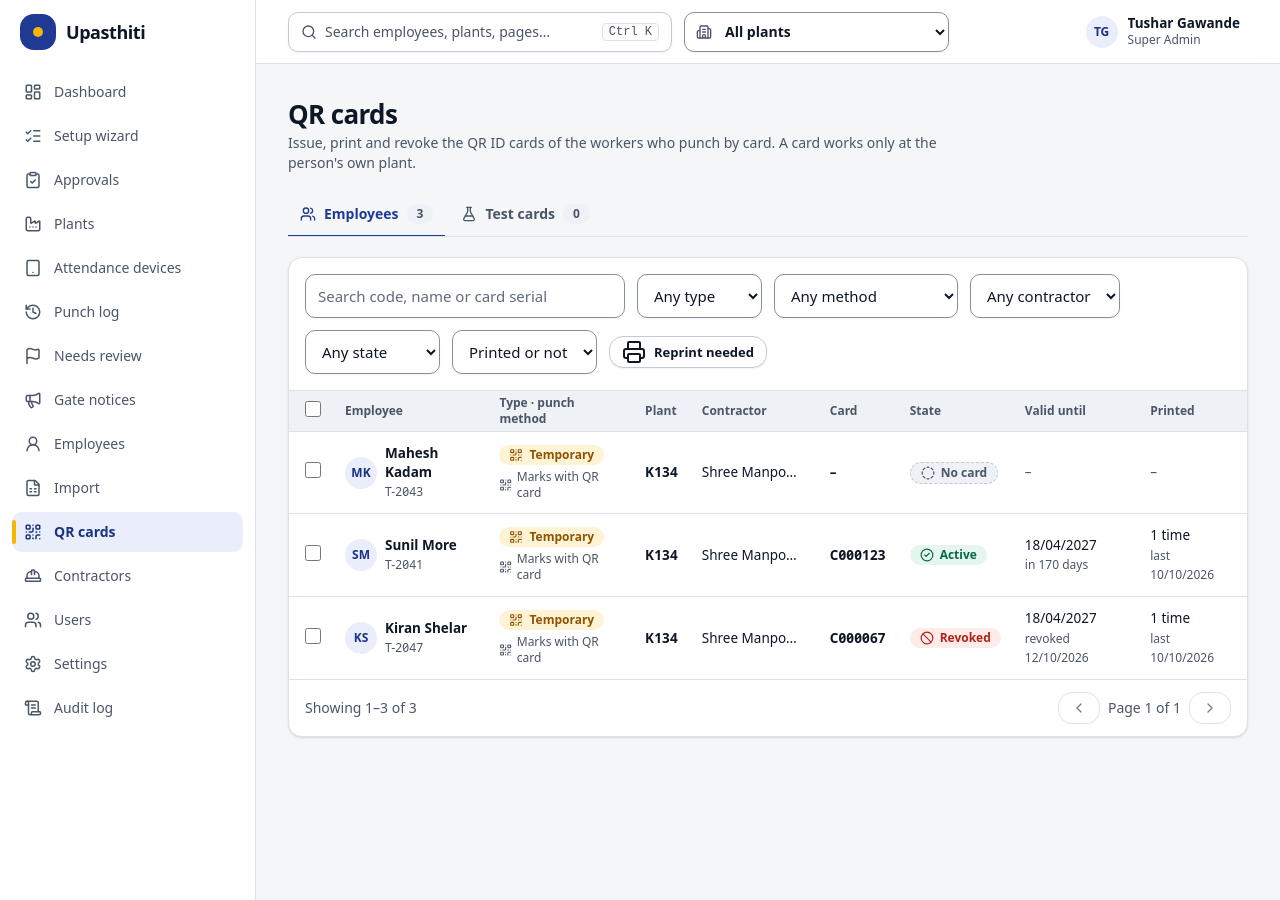
Test: selecting people › shows the bulk bar with what each button will do with this selection
Click the checkbox named "Select Mahesh Kadam" at (313, 470), box [305,462,321,478]
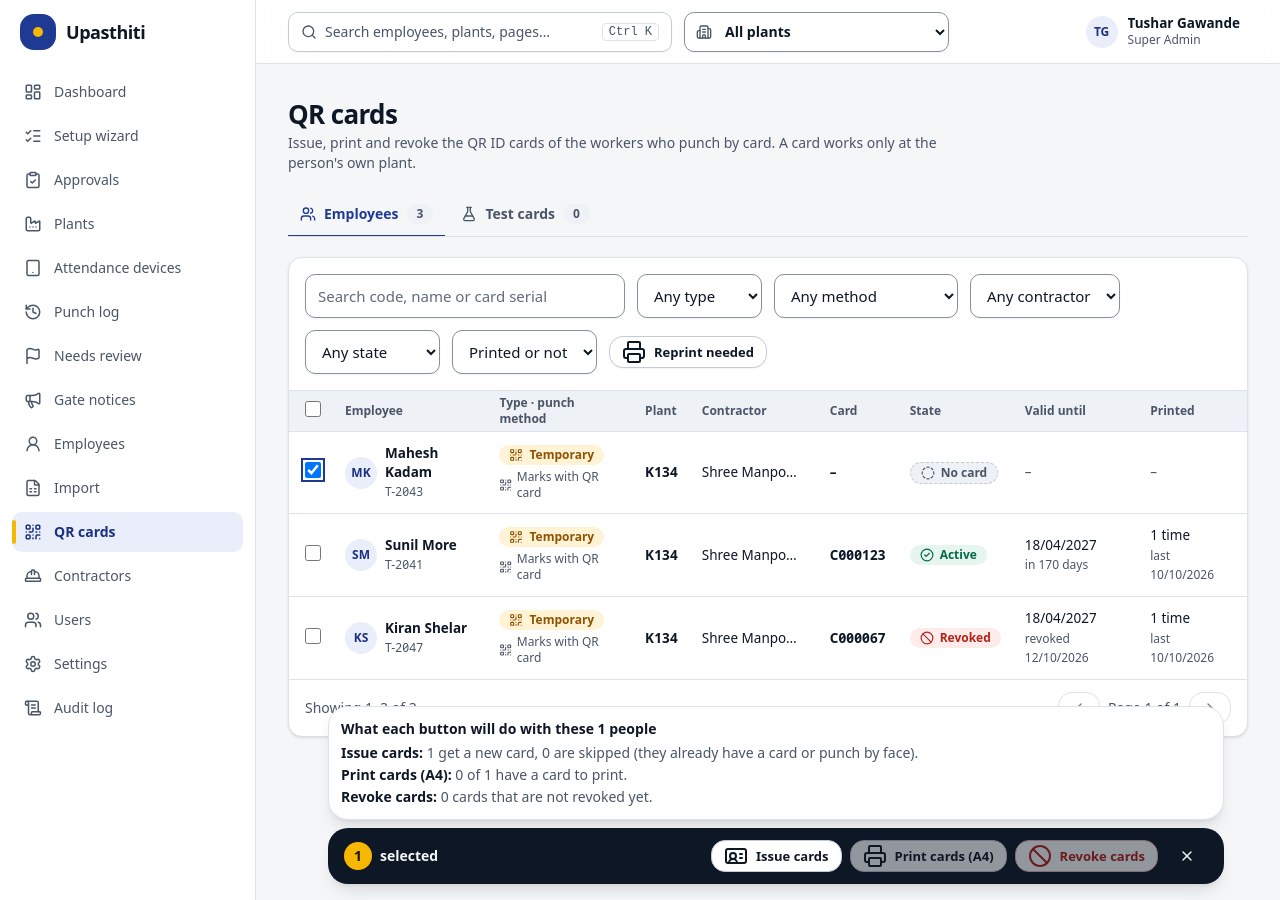
Click the checkbox named "Select Sunil More" at (313, 553), box [305,545,321,561]
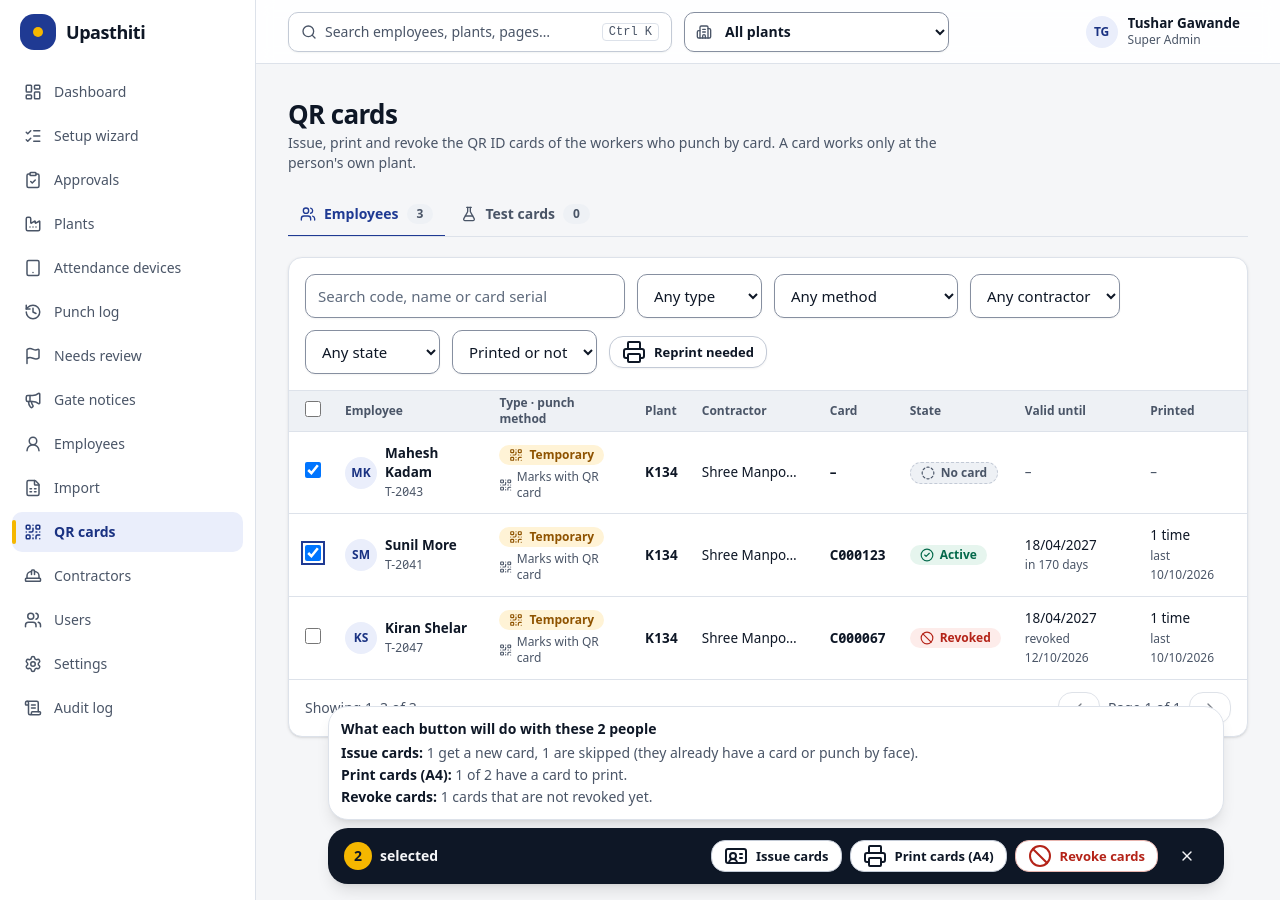
Click the checkbox named "Select Kiran Shelar" at (313, 636), box [305,628,321,644]
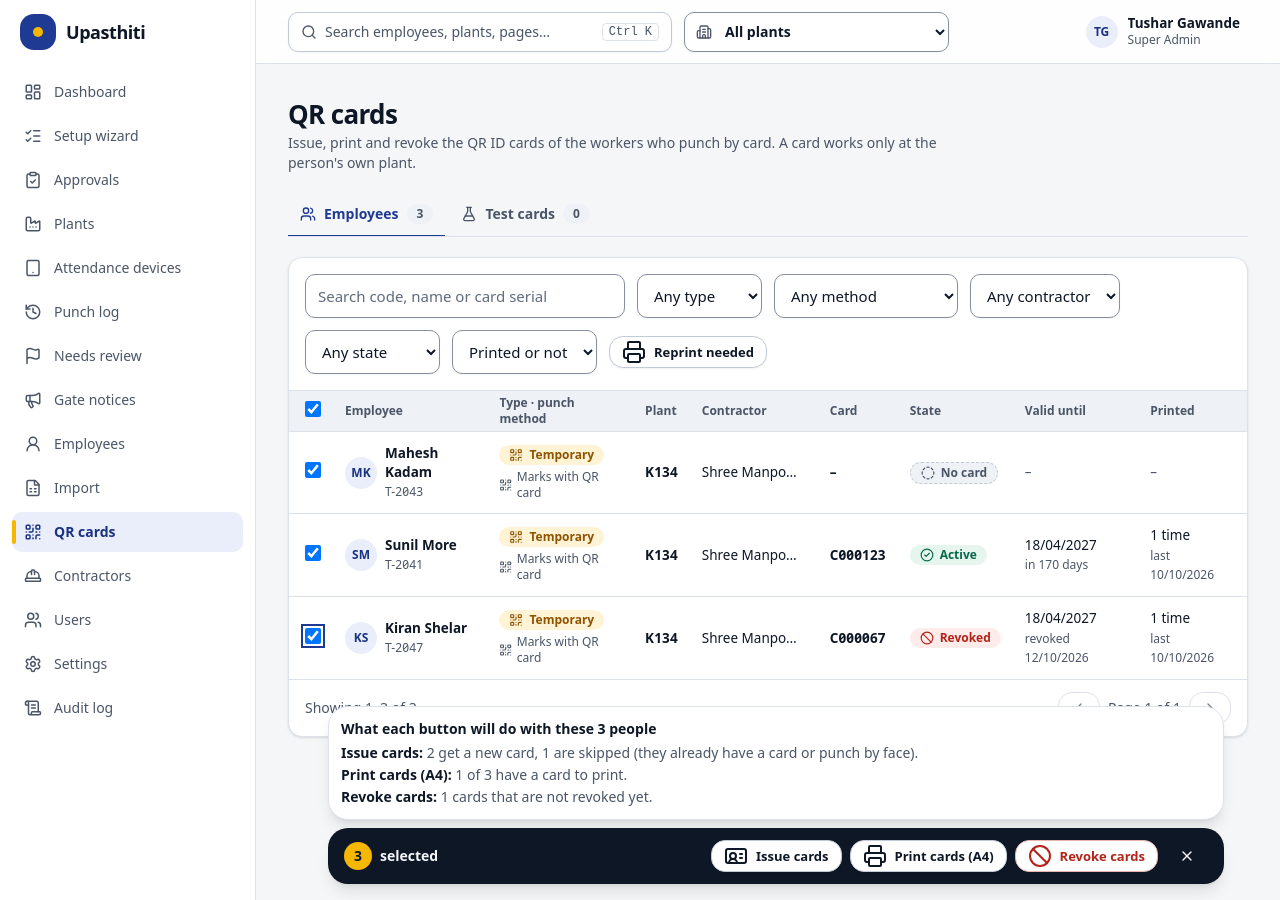
Expected: the text "What each button will do with these 3 people" is shown, [341,719,656,738]
Expected: the list item "2 get a new card, 1 are skipped" is shown, [427,743,918,762]
Expected: the list item "1 of 3 have a card to print." is shown, [455,765,627,784]
